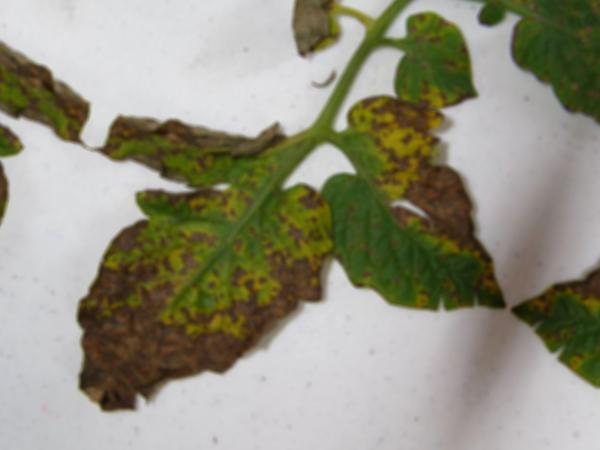Tomato Septoria leaf spot: (40, 118, 360, 450), (276, 64, 573, 354), (90, 48, 298, 227), (448, 0, 600, 122), (370, 3, 507, 134), (177, 0, 385, 9)
